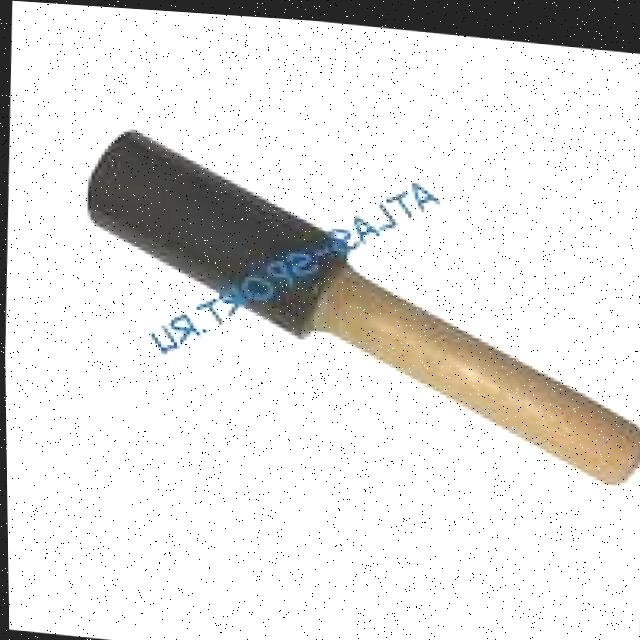grenade: (76, 126, 640, 479)
